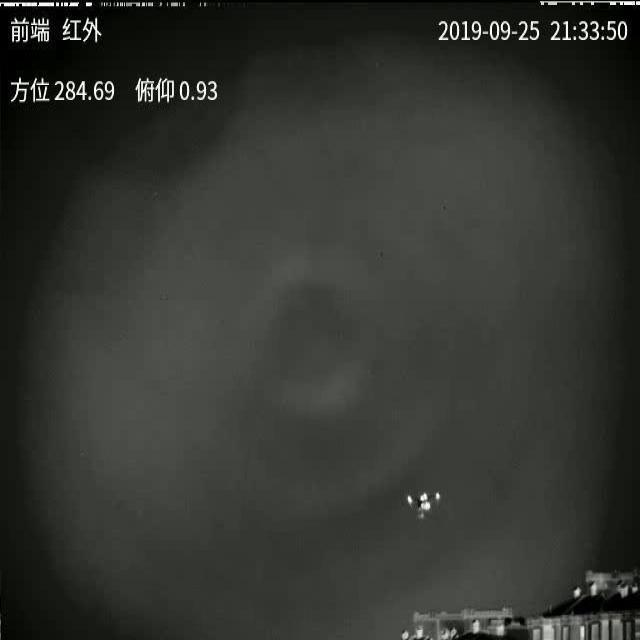drone: (406, 488, 444, 522)
